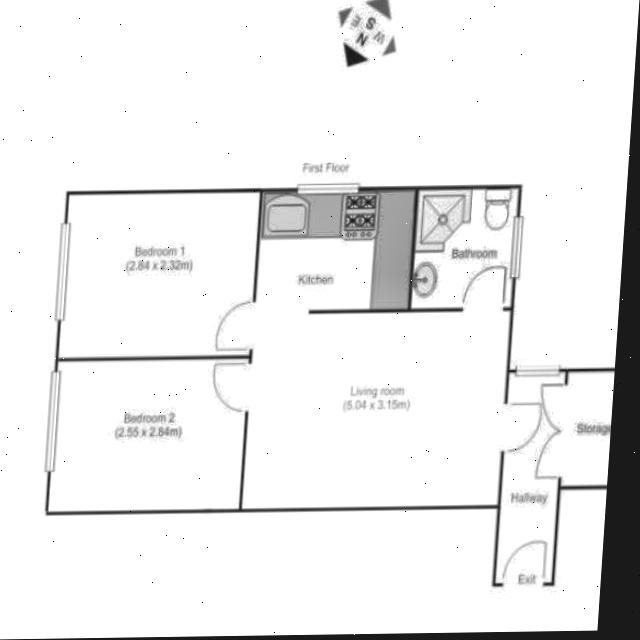room: (241, 181, 519, 527), (56, 191, 264, 359), (45, 359, 252, 512), (495, 368, 565, 587), (410, 182, 519, 317), (560, 367, 615, 490), (547, 493, 554, 582)
